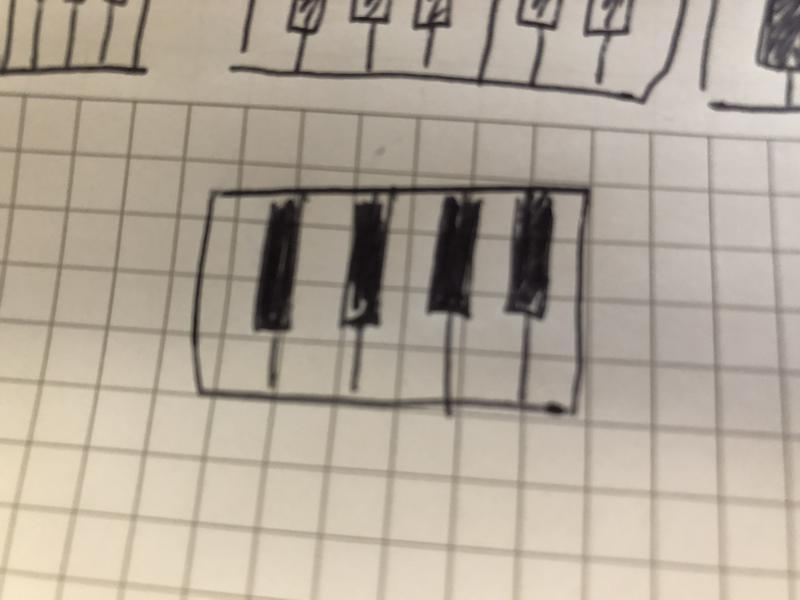piano: (187, 174, 597, 423)
